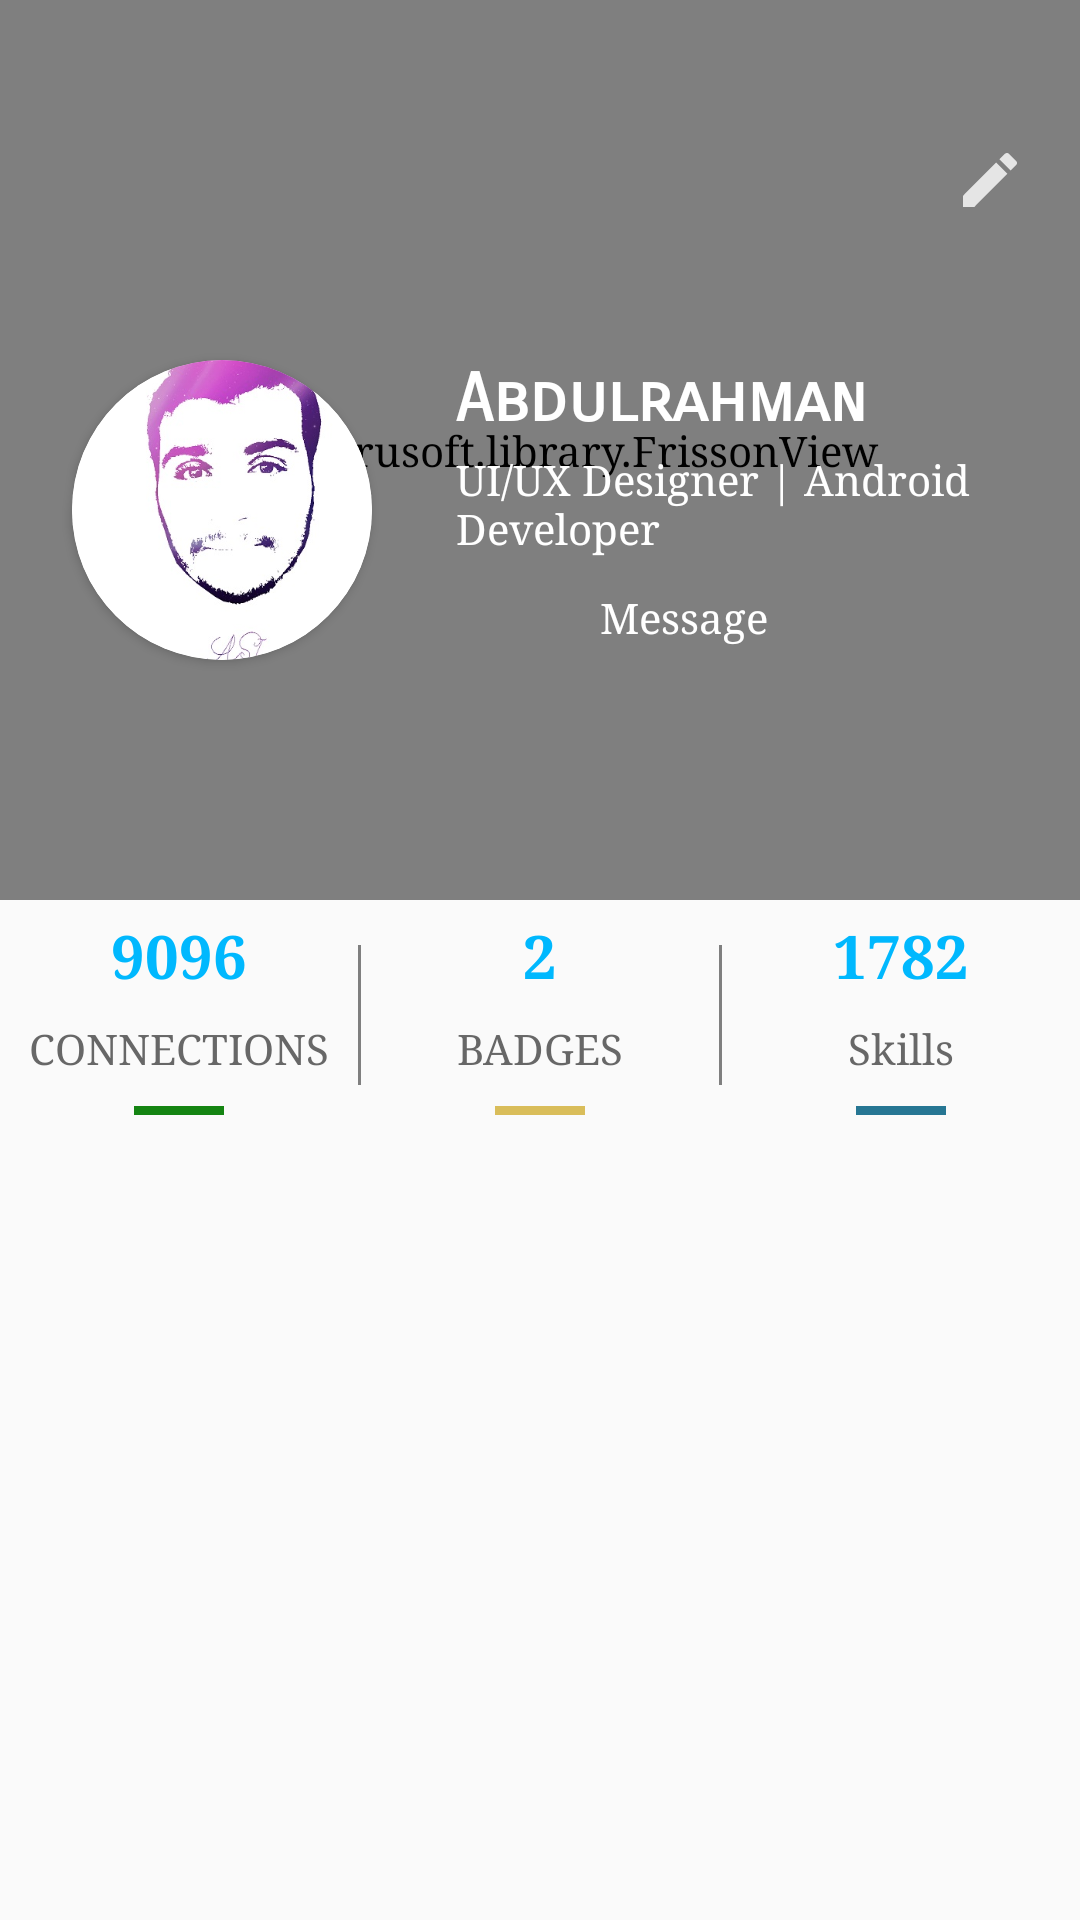

Where icons sit on this 1080px x 1920px app screen, as (x1,y1,x2,y2):
edit: (963,153,1017,207)
image profile for the usr: (72,360,372,660)
